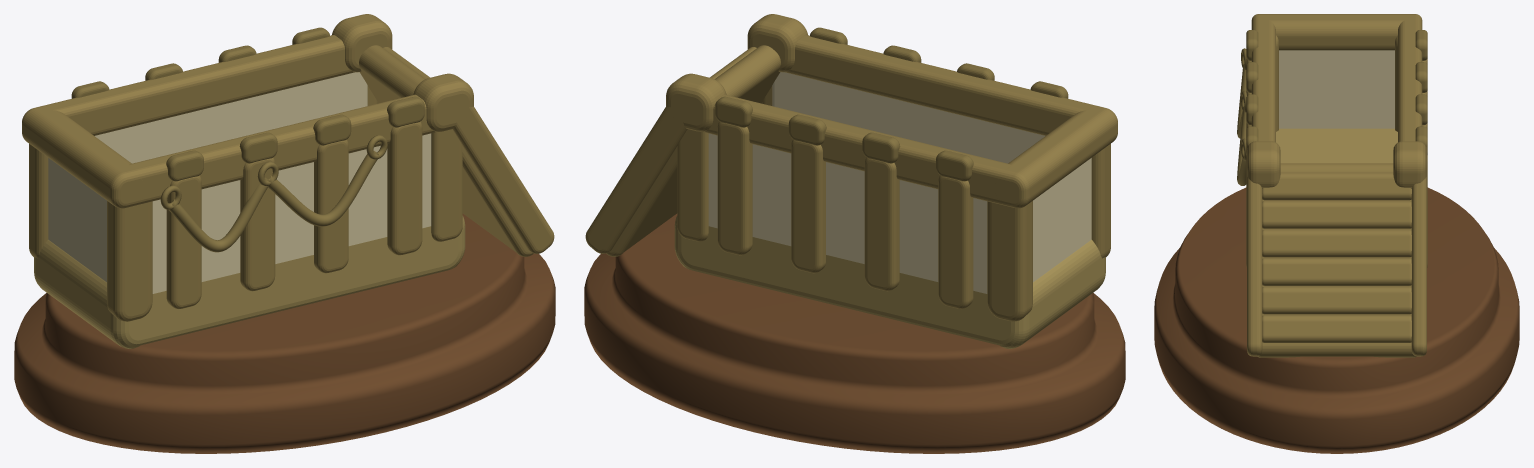
The model's file is ch5-piece-dummy-landing-craft.glb.
3 renders of one model, left to right at view 1: azimuth 30°, elevation 25°; view 2: azimuth 150°, elevation 25°; view 3: azimuth 270°, elevation 25°, orthographic. The views are drawn at different scales.
Parts seen in each view (by area): view 1: base, panel_side (×2), rail_top (×2), hull_floor, rib (×4), post_stern (×2), rail_stern, ramp_plate, panel_stern, ramp_rail, bow_cap (×2), rib_strap (×4) (+2 smaller); view 2: base, panel_side (×2), rail_top (×2), rib (×4), hull_floor, post_stern (×2), rail_stern, ramp_plate, panel_stern, ramp_rail, bow_cap (×2), rib_strap (×4) (+1 smaller); view 3: base, ramp_plank (×6), panel_stern, ramp_rail (×2), rail_top (×2), rail_stern, ramp_plate, hull_floor, bow_cap (×2), rope.
Part boxes in pixels (x1,y1,x2,y2): base: (14, 213, 555, 453); panel_side (×2): (95, 72, 431, 293); rail_top (×2): (40, 35, 435, 204); hull_floor: (34, 216, 465, 348); rib (×4): (166, 121, 422, 308); post_stern (×2): (29, 144, 152, 321); rail_stern: (22, 105, 144, 208); ramp_plate: (359, 45, 533, 256); panel_stern: (48, 158, 106, 282); ramp_rail: (452, 106, 554, 253); bow_cap (×2): (332, 14, 473, 131); rib_strap (×4): (166, 96, 424, 181); base: (584, 213, 1125, 453); panel_side (×2): (708, 72, 1044, 293); rail_top (×2): (704, 35, 1099, 204); rib (×4): (717, 121, 973, 308); hull_floor: (674, 216, 1105, 348); post_stern (×2): (987, 144, 1110, 321); rail_stern: (995, 105, 1117, 208); ramp_plate: (606, 45, 780, 256); panel_stern: (1033, 158, 1091, 282); ramp_rail: (585, 106, 687, 253); bow_cap (×2): (666, 14, 807, 131); rib_strap (×4): (715, 96, 973, 181); base: (1154, 187, 1519, 453); ramp_plank (×6): (1262, 172, 1411, 342); panel_stern: (1279, 50, 1394, 128); ramp_rail (×2): (1247, 176, 1426, 356); rail_top (×2): (1251, 18, 1422, 188); rail_stern: (1251, 14, 1422, 50); ramp_plate: (1257, 163, 1416, 357); hull_floor: (1276, 128, 1397, 163); bow_cap (×2): (1247, 141, 1426, 187); rope: (1237, 106, 1246, 185).
Size of the model in its own units: 0.1704 by 0.091 by 0.12.
